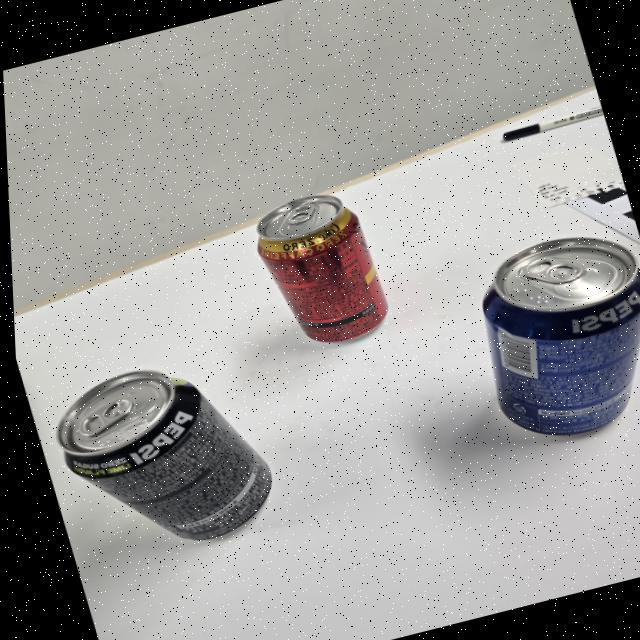can_coke_zero: (258, 197, 391, 345)
can_pepsi: (481, 237, 640, 437)
can_pepsi_zero: (58, 371, 274, 547)
